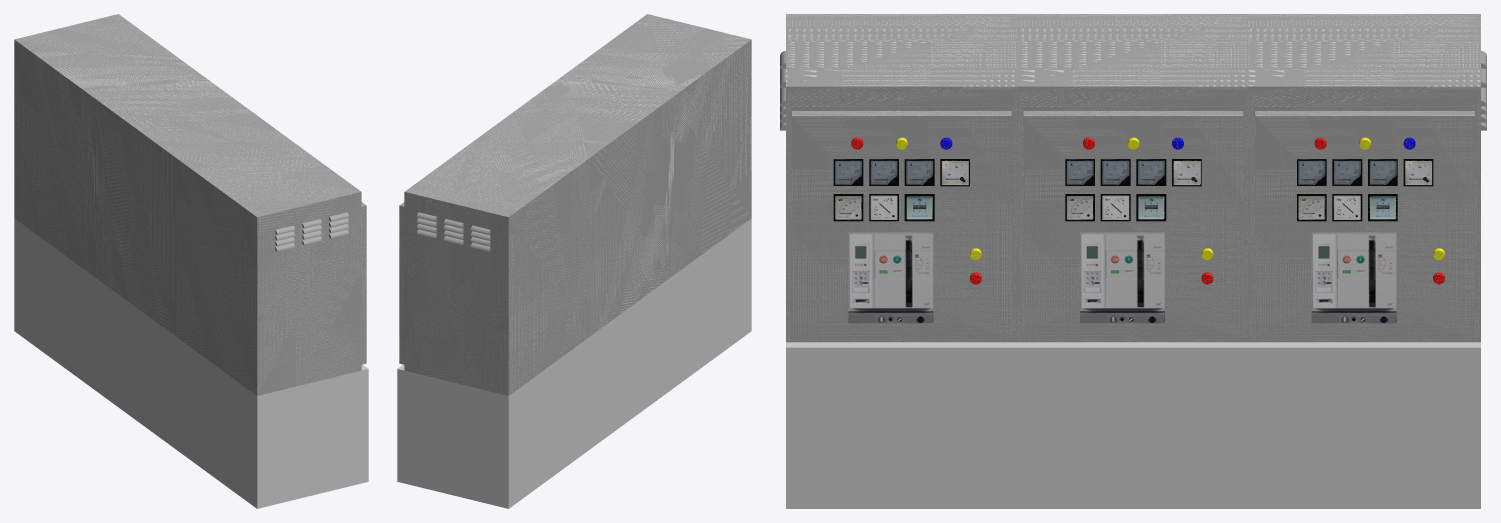
File: Panel_Belakang[1].dae
3 renders of one model, left to right at view 1: azimuth 30°, elevation 25°; view 2: azimuth 150°, elevation 25°; view 3: azimuth 270°, elevation 25°, orthographic. The views are drawn at different scales.
Visible parts, largest first — view 1: group_4 (×7); view 2: group_4 (×7); view 3: group_4 (×12), group_9 (×3), group_12 (×3), group_13 (×3), group_6 (×3), group_7 (×3), group_5 (×3), group_8 (×3), group_10 (×3).
Boxes of the visible parts, x1,y1,x2,y2 form: group_4 (×7): [14, 14, 368, 508]; group_4 (×7): [397, 14, 751, 508]; group_4 (×12): [786, 14, 1480, 508]; group_9 (×3): [848, 232, 1396, 323]; group_12 (×3): [869, 194, 1362, 221]; group_13 (×3): [904, 194, 1397, 221]; group_6 (×3): [833, 194, 1326, 221]; group_7 (×3): [940, 159, 1433, 186]; group_5 (×3): [904, 159, 1397, 185]; group_8 (×3): [869, 159, 1362, 185]; group_10 (×3): [833, 159, 1326, 185].
Size of the model in its own units: 25 by 93.7 by 61.02.
12 materials, 6 textured.
